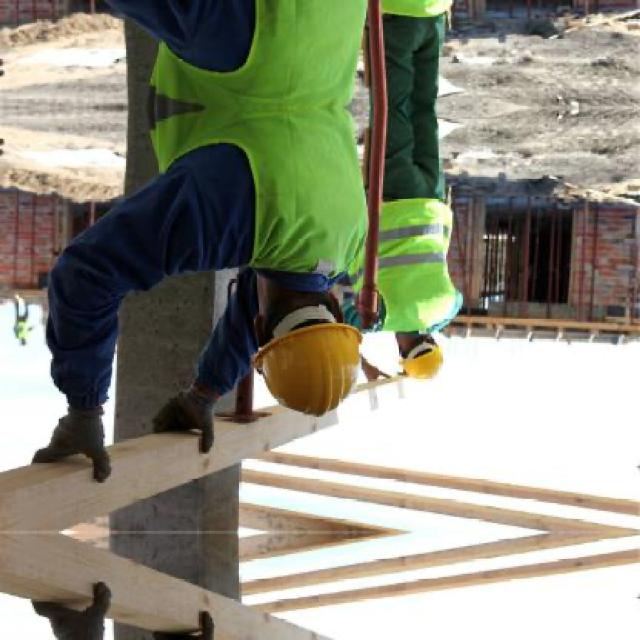con casco: (228, 270, 372, 408), (388, 324, 451, 382)
